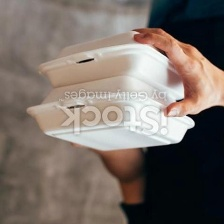foam_box: (24, 73, 202, 154), (34, 28, 197, 105)
